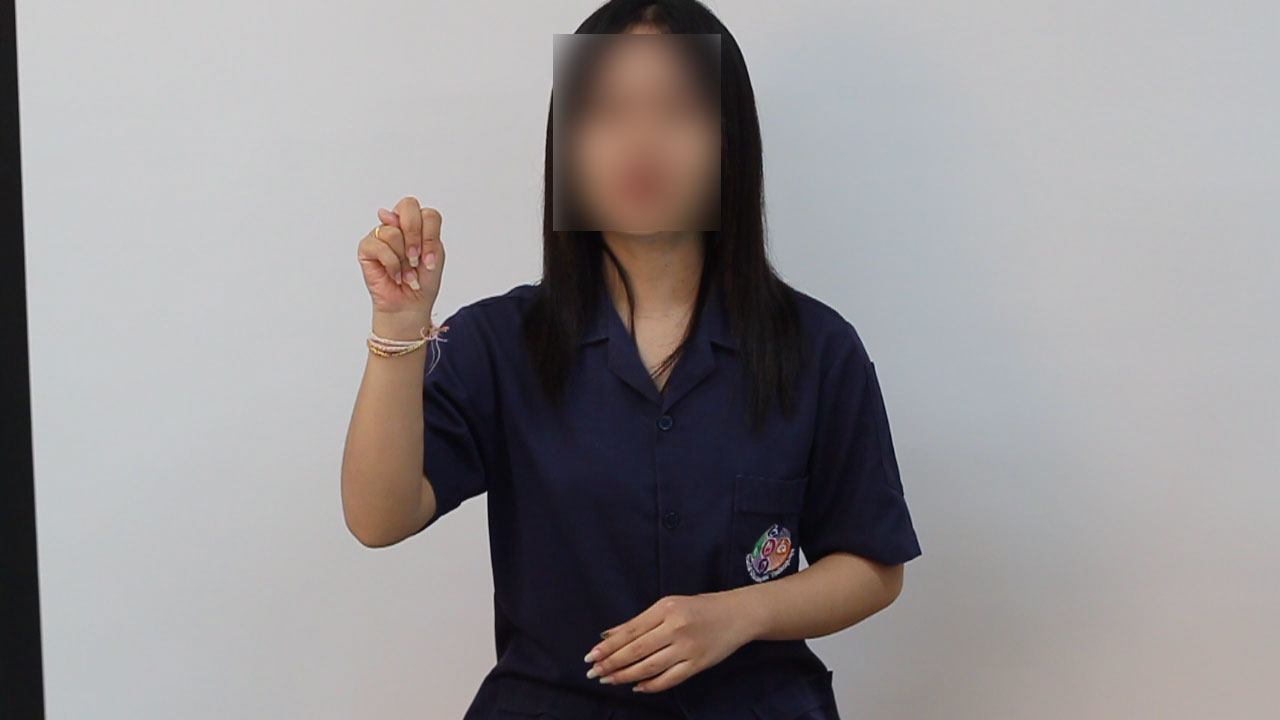nor: (349, 188, 462, 333)
